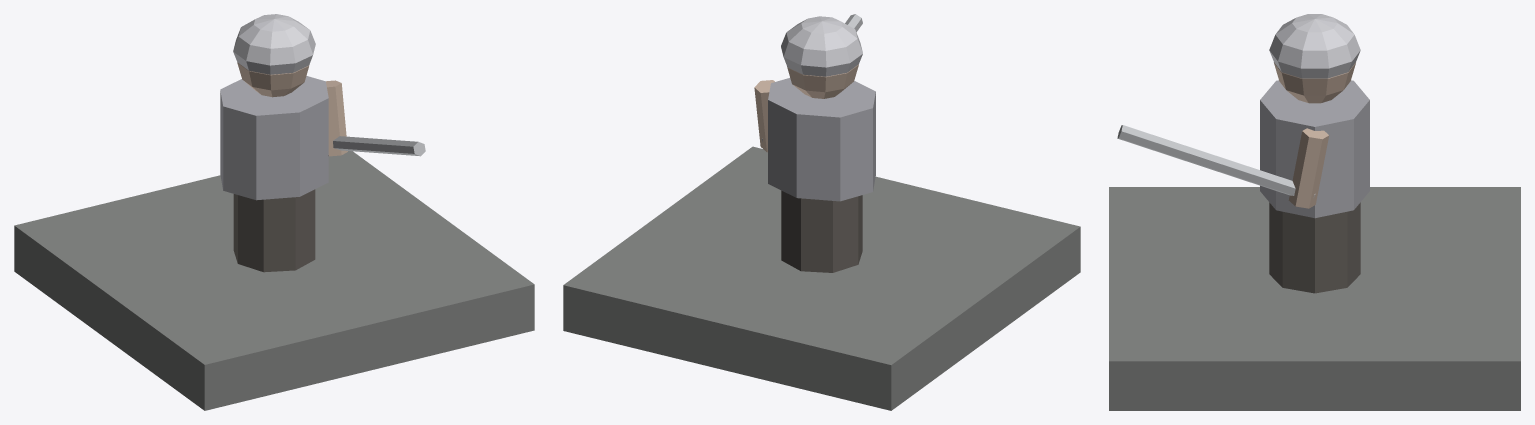
Rendered from human_knight.glb.
The picture shows the model from 3 angles, left to right: view 1: azimuth 30°, elevation 25°; view 2: azimuth 150°, elevation 25°; view 3: azimuth 270°, elevation 25°; orthographic projection. The views are drawn at different scales.
Parts seen in each view (by area): view 1: Base, TurretMesh, ArmMesh; view 2: Base, TurretMesh, ArmMesh; view 3: Base, TurretMesh, ArmMesh.
Boxes of the visible parts, x1,y1,x2,y2 form: Base: (14, 151, 534, 410); TurretMesh: (220, 14, 328, 272); ArmMesh: (326, 80, 425, 156); Base: (563, 146, 1080, 410); TurretMesh: (768, 16, 875, 272); ArmMesh: (754, 14, 862, 152); Base: (1109, 187, 1520, 410); TurretMesh: (1260, 14, 1369, 293); ArmMesh: (1117, 125, 1329, 208).
Bounding box in the file's own units: 1.8 × 1.47 × 1.8.
